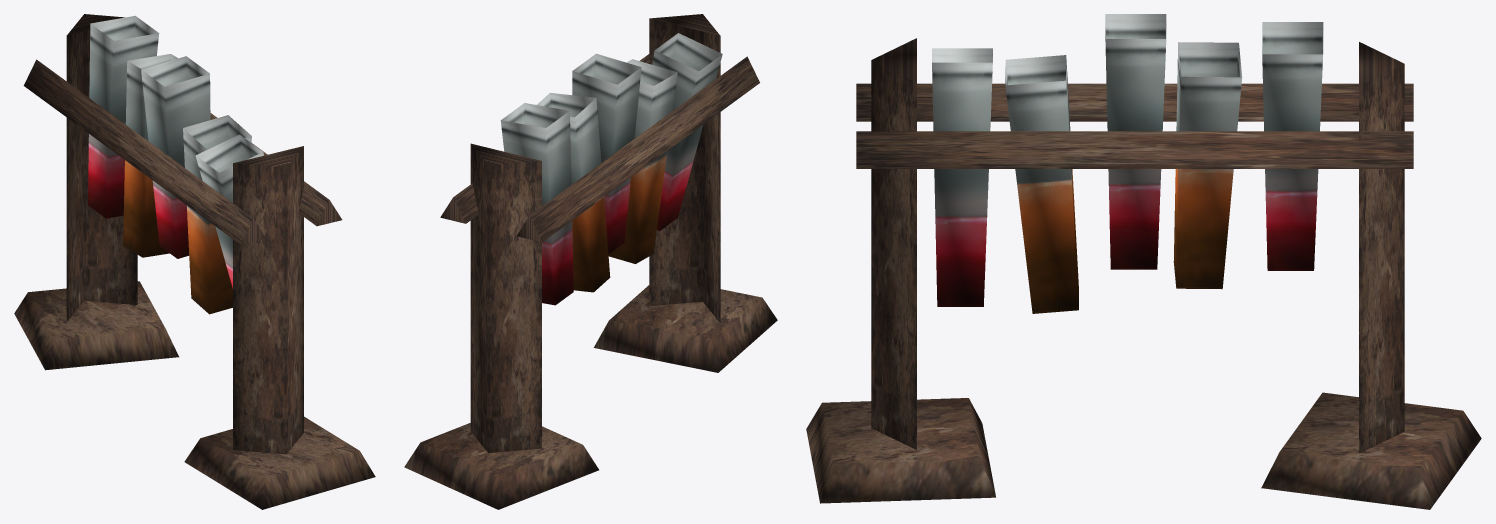
The model's file is smallvials.obj.
3 views of the same model, side by side, from view 1: azimuth 30°, elevation 25°; view 2: azimuth 150°, elevation 25°; view 3: azimuth 270°, elevation 25° (orthographic). The views are drawn at different scales.
Parts seen in each view (by area): view 1: Geoset0, Geoset2, Geoset1; view 2: Geoset0, Geoset2, Geoset1; view 3: Geoset0, Geoset2, Geoset1.
Boxes of the visible parts, x1,y1,x2,y2 form: Geoset0: (14,14,375,509); Geoset2: (88,15,263,288); Geoset1: (123,54,251,314); Geoset0: (404,14,777,509); Geoset2: (500,33,722,305); Geoset1: (537,59,677,292); Geoset0: (806,38,1481,509); Geoset2: (932,14,1323,306); Geoset1: (1005,42,1242,313).
Size of the model in its own units: 0.333 by 0.7166 by 1.02.
Materials: 3 (3 with a texture image).
